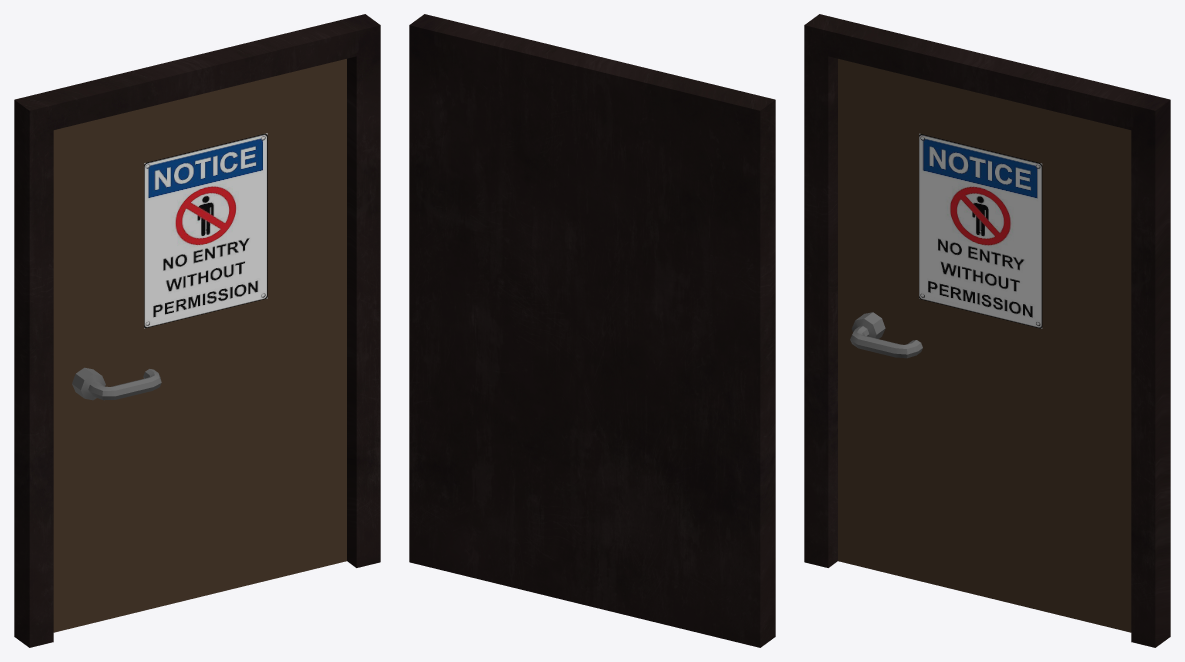
The model's file is door.fbx.
The picture shows the model from 3 angles, left to right: view 1: azimuth 30°, elevation 25°; view 2: azimuth 150°, elevation 25°; view 3: azimuth 330°, elevation 25°; orthographic projection.
Parts seen in each view (by area): view 1: pCube3, pPlane3, pCylinder1; view 2: pCube3; view 3: pCube3, pPlane3, pCylinder1.
Boxes of the visible parts, x1=… form: pCube3: x1=14, y1=14, x2=380, y2=647; pPlane3: x1=144, y1=133, x2=267, y2=328; pCylinder1: x1=72, y1=367, x2=161, y2=400; pCube3: x1=409, y1=14, x2=775, y2=647; pCube3: x1=804, y1=14, x2=1170, y2=647; pPlane3: x1=919, y1=133, x2=1042, y2=328; pCylinder1: x1=850, y1=312, x2=922, y2=358.
Size of the model in its own units: 1.45 by 2.12 by 0.2299.
4 materials, 2 textured.
